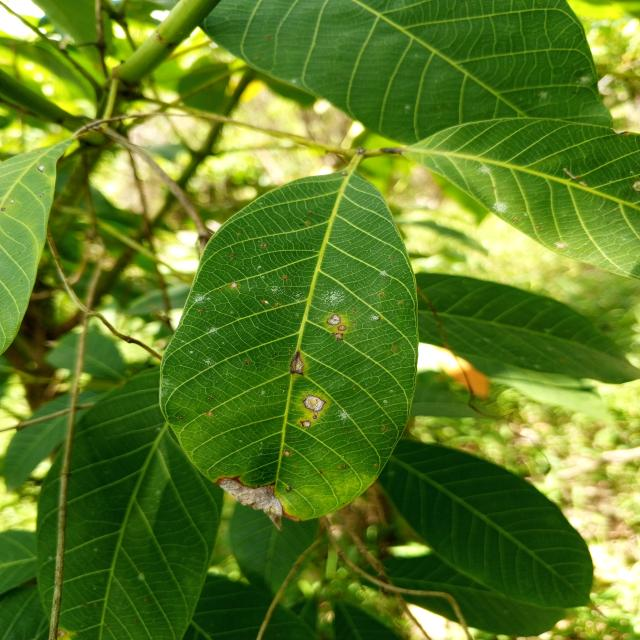Colletotrichum: (303, 394, 326, 412), (301, 420, 311, 428), (337, 325, 347, 331), (313, 416, 317, 419)
Leaf-Blight: (215, 477, 301, 531)
